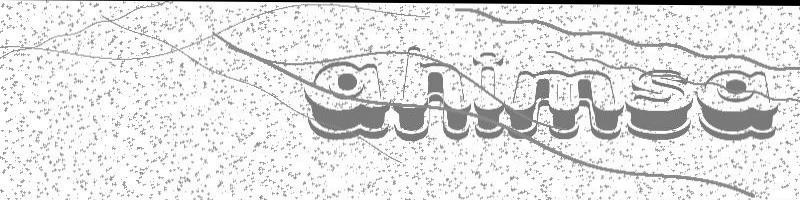a: (300, 57, 393, 138), (696, 65, 779, 142)
h: (393, 42, 472, 140)
i: (471, 46, 509, 141)
m: (509, 62, 625, 140)
s: (625, 60, 697, 139)
